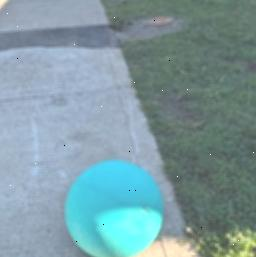algae: (62, 161, 161, 257)
